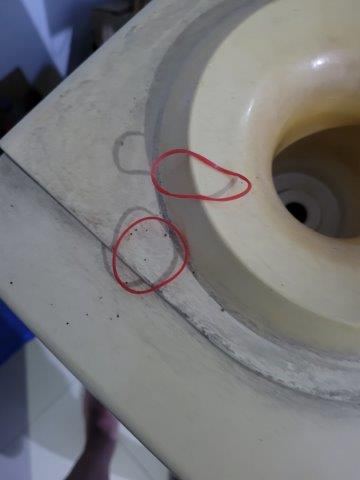karet: (113, 217, 190, 294), (149, 148, 253, 201)
